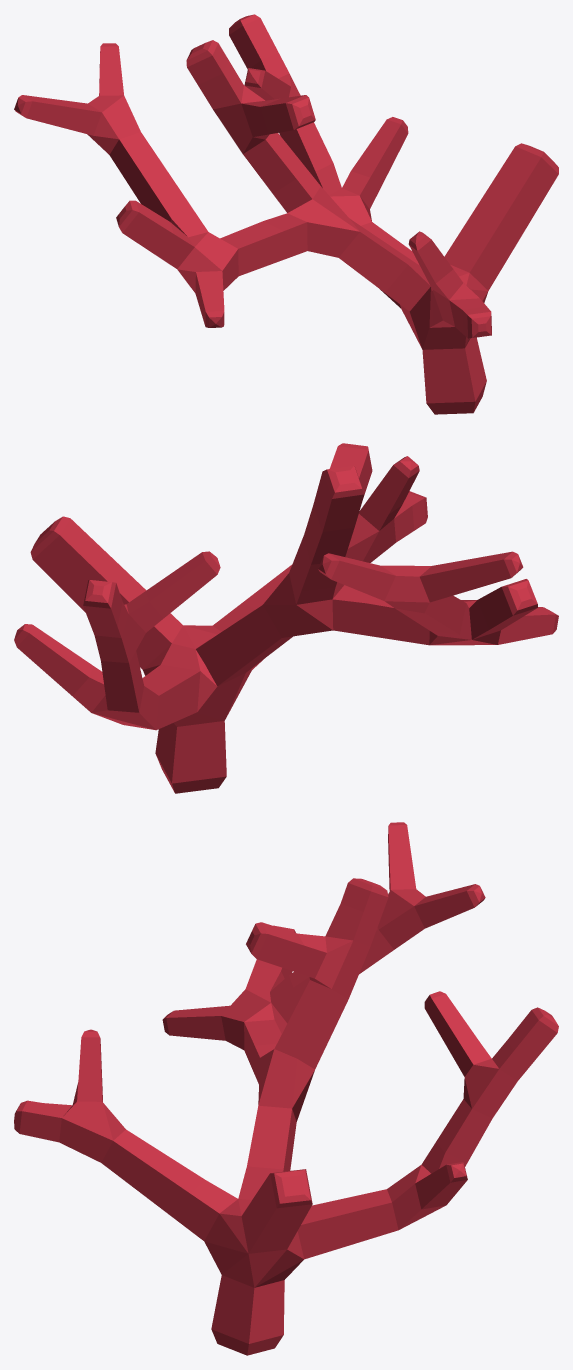
The model's file is Coral.glb.
The picture shows the model from 3 angles, top to bottom: view 1: azimuth 30°, elevation 25°; view 2: azimuth 150°, elevation 25°; view 3: azimuth 270°, elevation 25°; orthographic projection. The views are drawn at different scales.
Visible parts, largest first — view 1: Cube; view 2: Cube; view 3: Cube.
Part boxes in pixels (<box>): Cube: <box>14,14,558,414</box>; Cube: <box>14,443,558,793</box>; Cube: <box>14,822,558,1355</box>.
Bounding box in the file's own units: 3.75 × 2.75 × 3.61.
